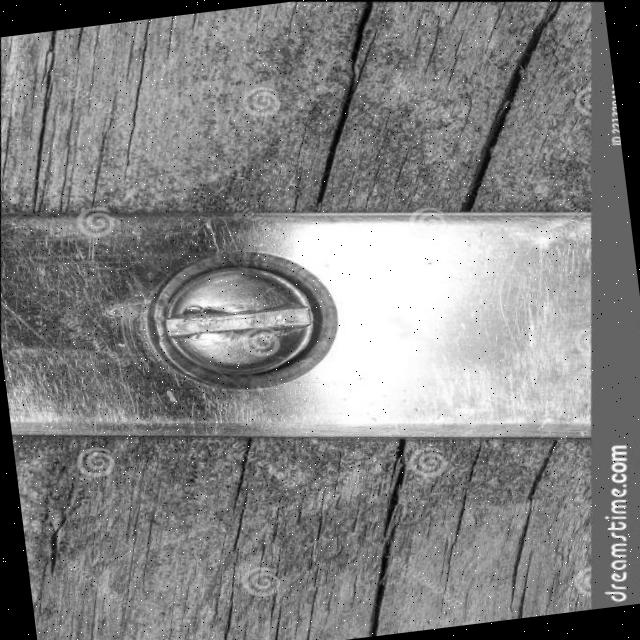Slotted: (128, 233, 368, 410)
